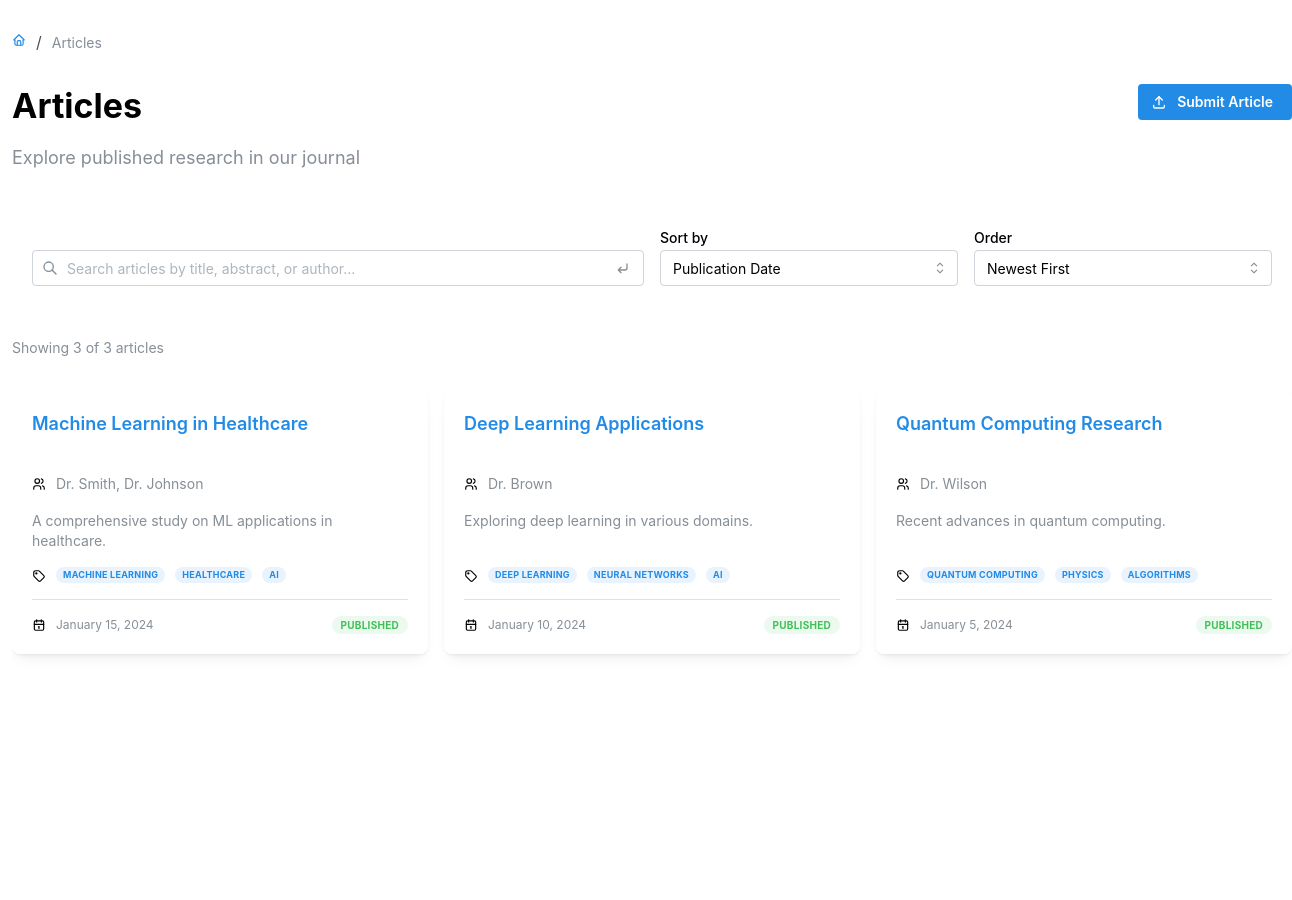
Test: Articles Page - Tag Filtering › Tag Filtering Functionality › should only show articles that contain the selected tag
Expected: the link "Machine Learning in Healthcare" is shown, x1=32 y1=413 x2=308 y2=434
Expected: the link "Deep Learning Applications" is shown, x1=464 y1=413 x2=704 y2=434
Note: Click on 'healthcare' tag
Click the text "healthcare" at {"x": 214, "y": 575}, box x1=182 y1=568 x2=245 y2=582
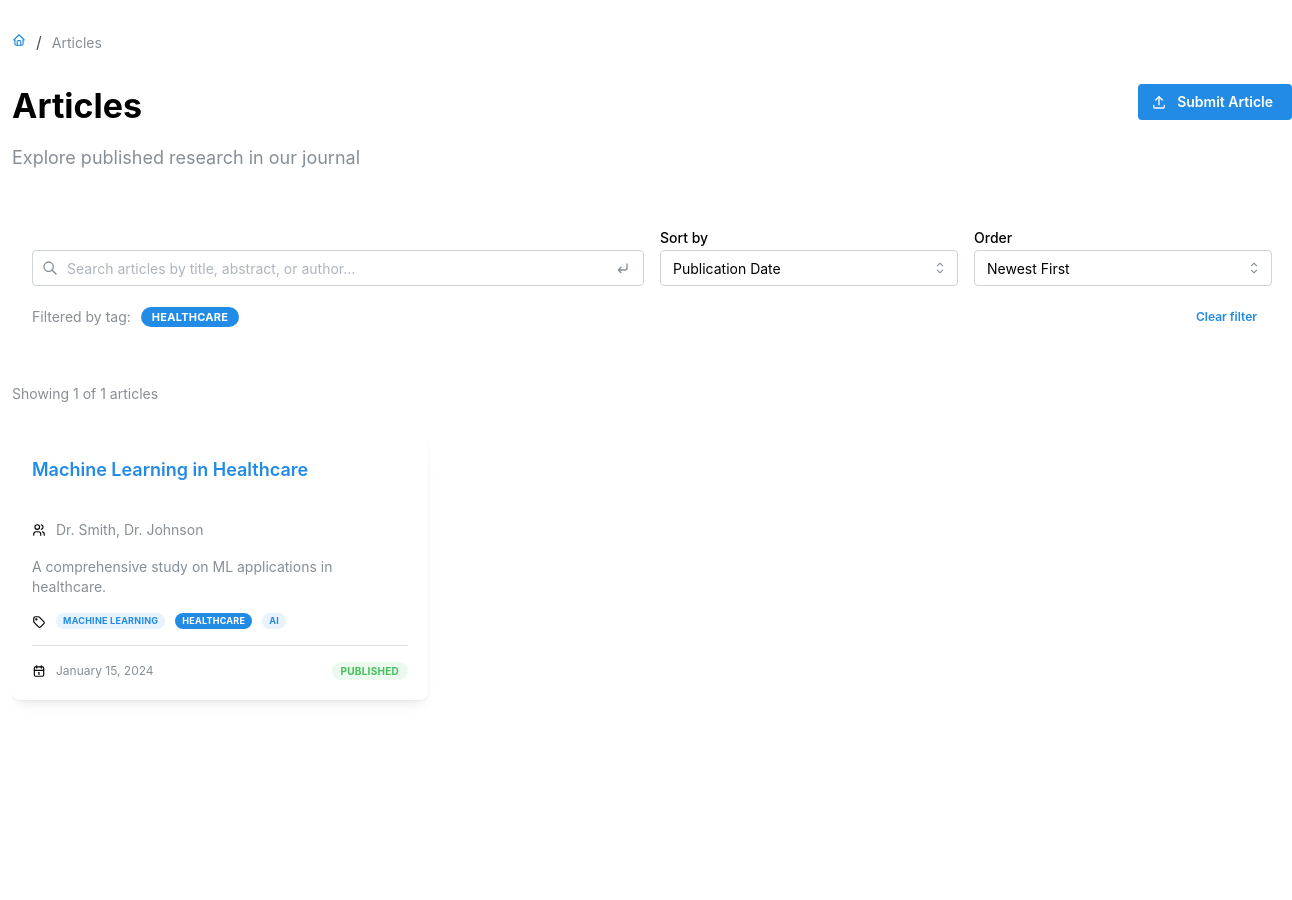
Expected: the link "Deep Learning Applications" is gone
Expected: the link "Quantum Computing Research" is gone
Expected: the text "Filtered by tag:" is shown, x1=32 y1=307 x2=131 y2=327
